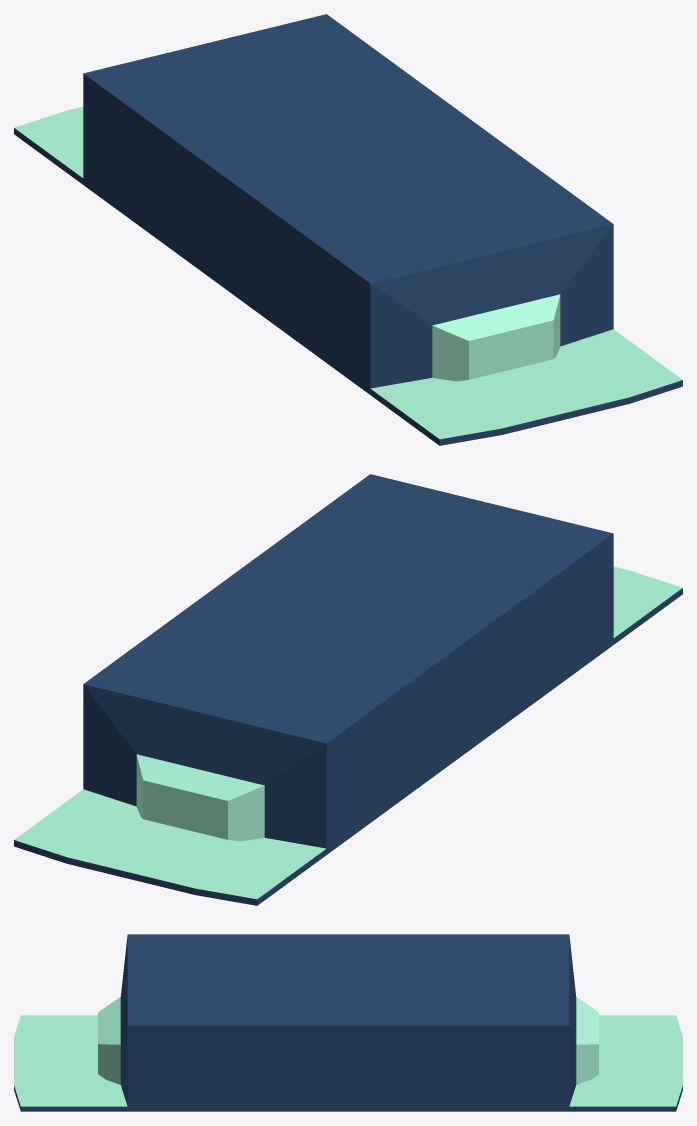
3 views of the same model, one above another, from view 1: azimuth 30°, elevation 25°; view 2: azimuth 150°, elevation 25°; view 3: azimuth 270°, elevation 25° (orthographic). The views are drawn at different scales.
Parts seen in each view (by area): view 1: T-1; view 2: T-1; view 3: T-1.
Part boxes in pixels (x1=…): T-1: x1=14, y1=14, x2=682, y2=445; T-1: x1=14, y1=474, x2=682, y2=905; T-1: x1=14, y1=934, x2=682, y2=1111.
Size of the model in its own units: 50.61 by 22.2 by 157.
